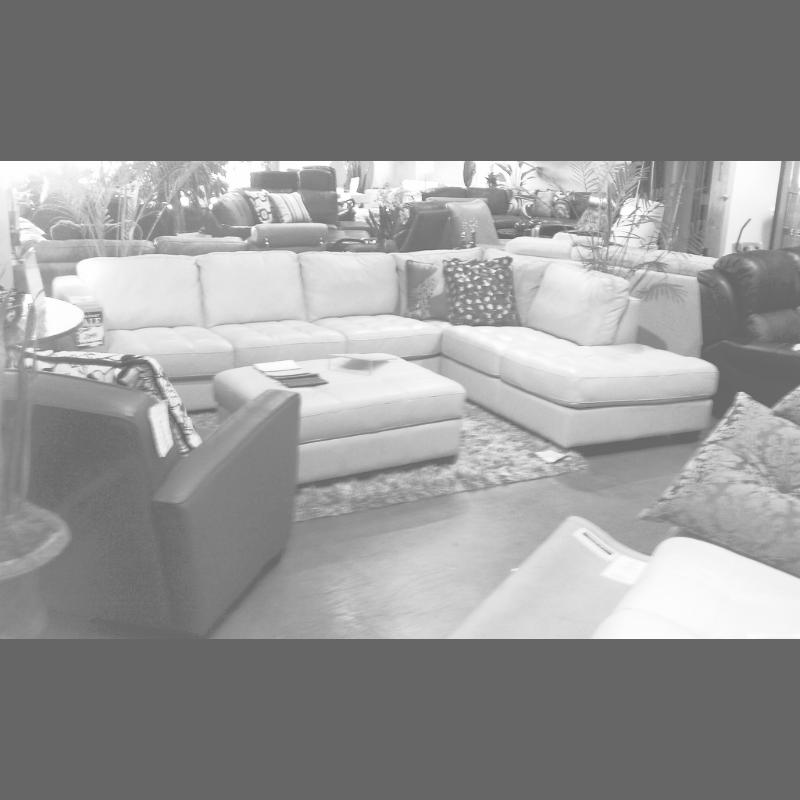pillow: (638, 367, 800, 580), (6, 348, 206, 462), (443, 257, 521, 326), (404, 255, 478, 323), (268, 193, 308, 221), (246, 187, 276, 221), (536, 186, 554, 222), (510, 190, 532, 218), (548, 190, 568, 217)
